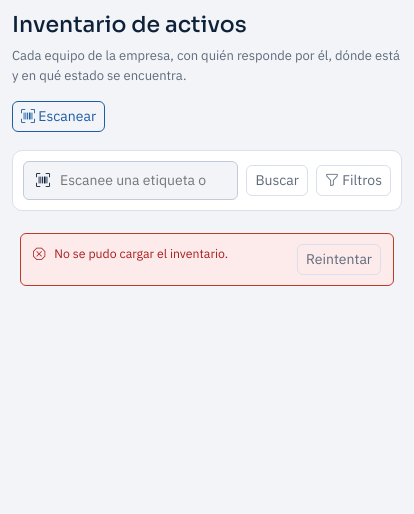
Test: El inventario en un teléfono › si falla lo dice también en la vista de tarjetas, con reintento
This screenshot has width=414, height=514.
Click the button "Reintentar": (339, 260) [297,244,381,275]
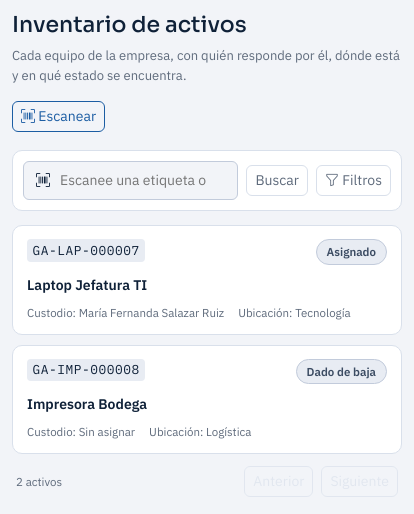
Now the list named "Activos" is shown, box [12,225,402,454]
